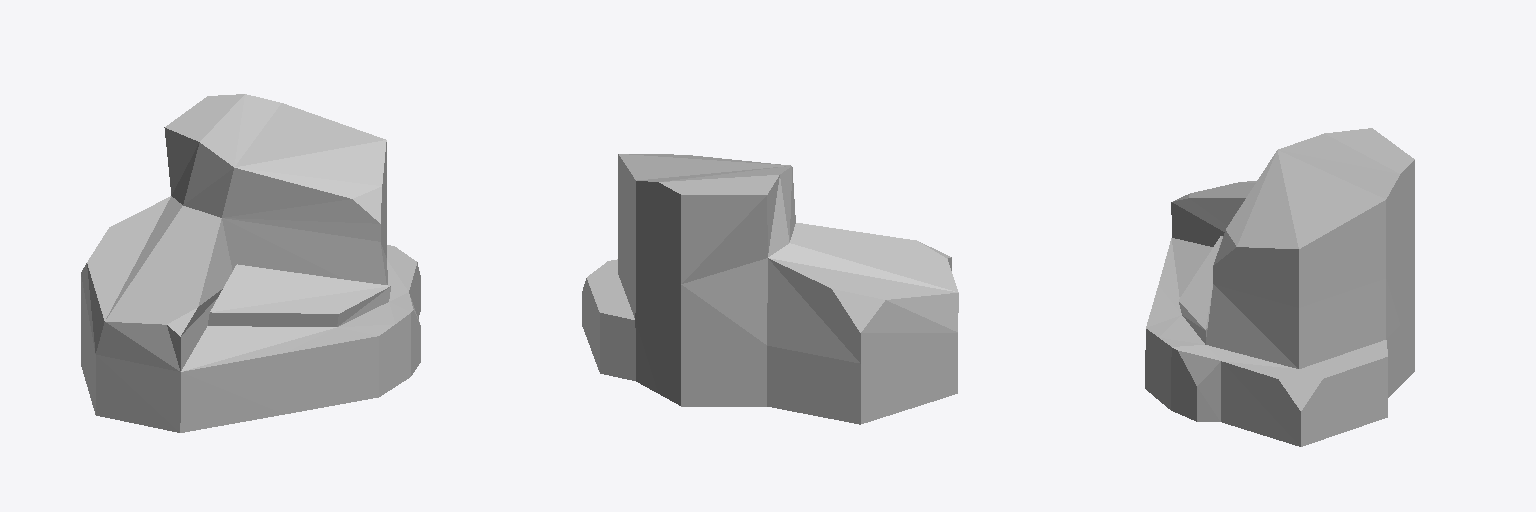
File: Rock.obj
3 views of the same model, side by side, from view 1: azimuth 30°, elevation 25°; view 2: azimuth 150°, elevation 25°; view 3: azimuth 270°, elevation 25° (orthographic).
Parts seen in each view (by area): view 1: Rock1; view 2: Rock1; view 3: Rock1.
Boxes of the visible parts, x1,y1,x2,y2 form: Rock1: [81, 94, 420, 432]; Rock1: [582, 154, 958, 424]; Rock1: [1145, 128, 1414, 446].
Bounding box in the file's own units: 6.01 × 3.47 × 4.01.